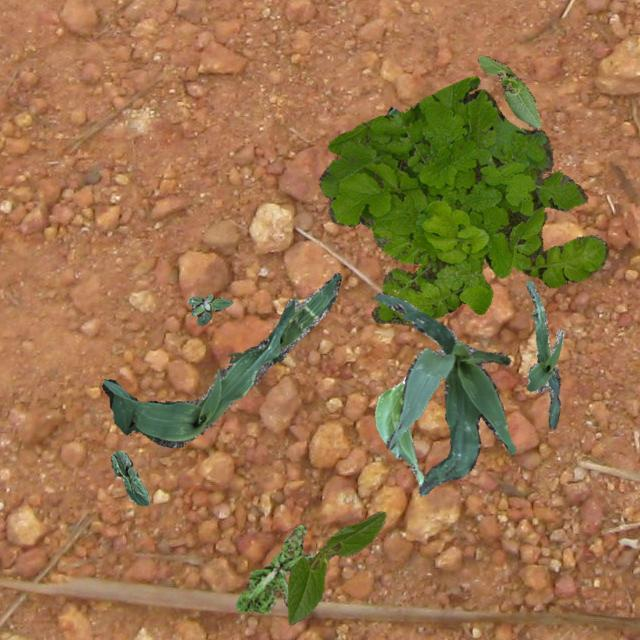crop: (102, 272, 340, 446), (372, 292, 514, 496), (286, 511, 386, 624), (374, 376, 424, 486), (526, 280, 562, 428), (476, 54, 540, 128), (110, 450, 148, 504), (386, 106, 398, 114)
weed: (318, 76, 608, 324), (234, 524, 316, 612), (187, 294, 230, 324)
